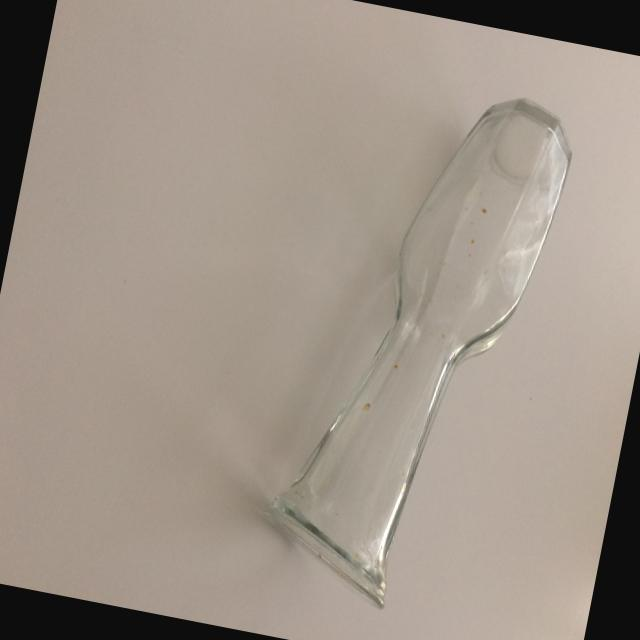Glass: (252, 59, 591, 640)
